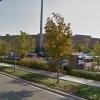Tree: (28, 7, 92, 75)
